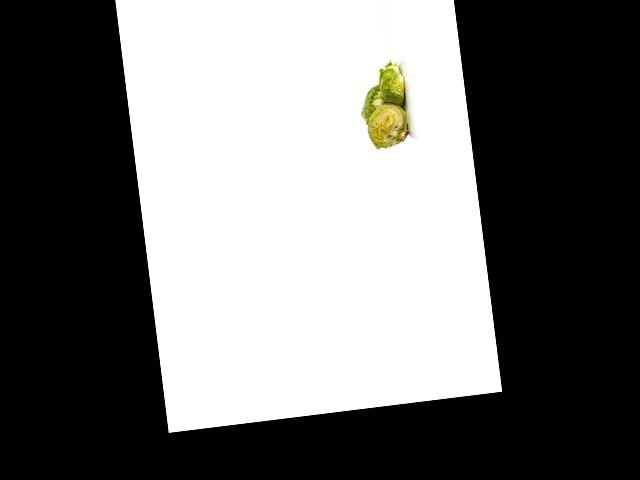lettuce: (356, 79, 392, 129)
